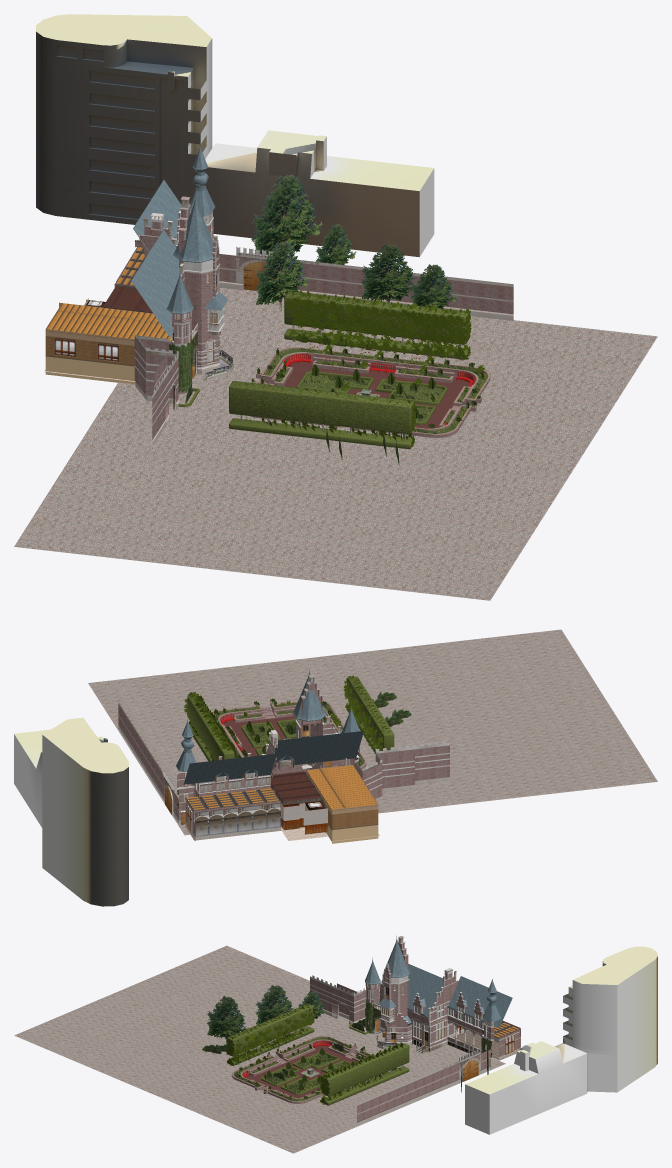
Rendered from latteria_v02-transformed.glb.
The picture shows the model from 3 angles, top to bottom: view 1: azimuth 30°, elevation 25°; view 2: azimuth 150°, elevation 25°; view 3: azimuth 270°, elevation 25°; orthographic projection. The views are drawn at different scales.
Parts seen in each view (by area): view 1: Grond, GebouwenZijkant, BuitenkantLatteria, RibbonGrass, RodeBloemen, TreeCut_TreeCut_0.001, Dak, BinnenkantLatteria, TuinVloer, Klimop; view 2: Grond, GebouwenZijkant, BuitenkantLatteria, RibbonGrass, Dak, BinnenkantLatteria, RodeBloemen, TuinVloer; view 3: Grond, GebouwenZijkant, BuitenkantLatteria, RibbonGrass, Dak, RodeBloemen, TreeCut_TreeCut_0.001, TuinVloer, Klimop.
Boxes of the visible parts, x1=… form: Grond: x1=14, y1=287, x2=657, y2=600; GebouwenZijkant: x1=36, y1=14, x2=434, y2=257; BuitenkantLatteria: x1=46, y1=196, x2=513, y2=446; RibbonGrass: x1=169, y1=291, x2=490, y2=464; RodeBloemen: x1=245, y1=289, x2=485, y2=446; TreeCut_TreeCut_0.001: x1=251, y1=174, x2=457, y2=311; Dak: x1=131, y1=145, x2=227, y2=337; BinnenkantLatteria: x1=44, y1=285, x2=173, y2=384; TuinVloer: x1=283, y1=361, x2=470, y2=428; Klimop: x1=171, y1=331, x2=198, y2=392; Grond: x1=88, y1=629, x2=657, y2=835; GebouwenZijkant: x1=14, y1=717, x2=128, y2=906; BuitenkantLatteria: x1=118, y1=674, x2=449, y2=840; RibbonGrass: x1=187, y1=676, x2=411, y2=767; Dak: x1=176, y1=669, x2=363, y2=784; BinnenkantLatteria: x1=270, y1=765, x2=379, y2=843; RodeBloemen: x1=183, y1=675, x2=389, y2=760; TuinVloer: x1=223, y1=716, x2=296, y2=756; Grond: x1=14, y1=945, x2=505, y2=1153; GebouwenZijkant: x1=465, y1=946, x2=657, y2=1134; BuitenkantLatteria: x1=232, y1=936, x2=520, y2=1125; RibbonGrass: x1=202, y1=1003, x2=409, y2=1105; Dak: x1=365, y1=936, x2=512, y2=1028; RodeBloemen: x1=225, y1=1004, x2=403, y2=1104; TreeCut_TreeCut_0.001: x1=207, y1=985, x2=488, y2=1092; TuinVloer: x1=245, y1=1045, x2=357, y2=1097; Klimop: x1=365, y1=1000, x2=491, y2=1057.
Bounding box in the file's own units: 99.64 × 25.01 × 130.
Materials: 12 (12 with a texture image).
